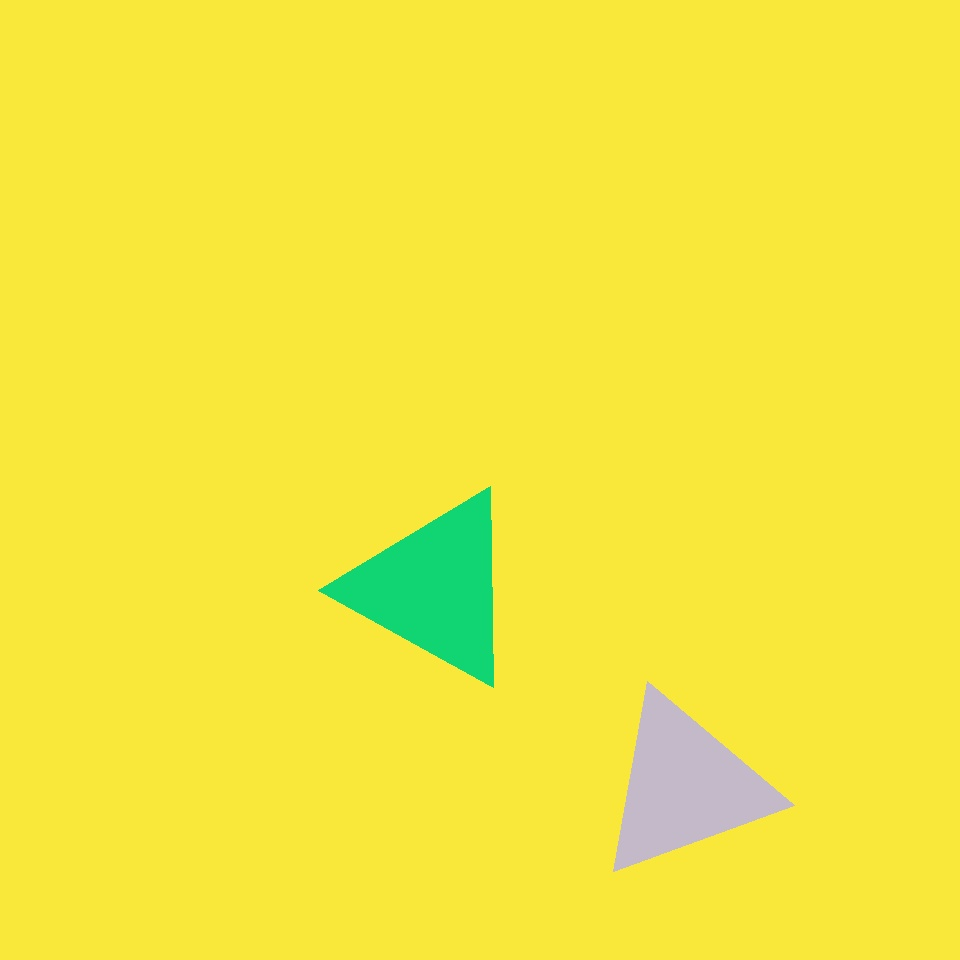circle: (538, 387, 814, 669), (346, 488, 522, 689), (594, 691, 775, 881)
triangle: (569, 291, 948, 669), (195, 377, 500, 683), (565, 314, 852, 600)
